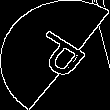P_SE: (19, 25, 91, 85)
